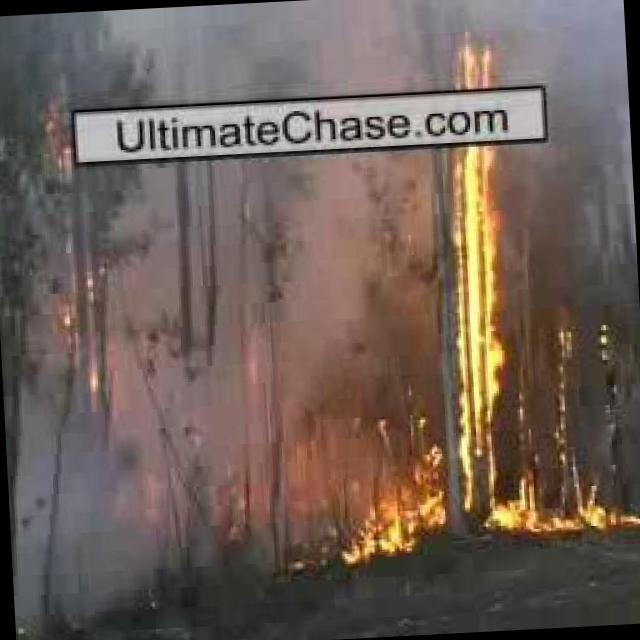Fire: (439, 145, 538, 538), (360, 401, 450, 556), (541, 512, 640, 539)
Smoke: (0, 152, 452, 636), (122, 0, 450, 109)
